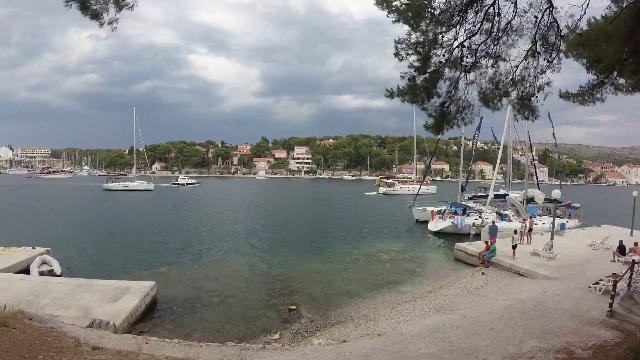Freighter: (29, 162, 82, 182)
Sailboat: (374, 177, 442, 199), (97, 173, 157, 195)
speedboat: (168, 170, 206, 190), (253, 172, 271, 182)
